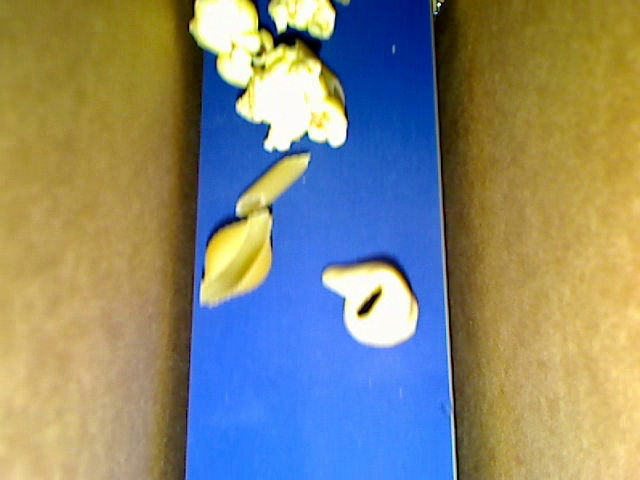penne: (235, 151, 310, 217)
shell: (198, 208, 274, 308)
tortellini: (322, 259, 418, 348)
